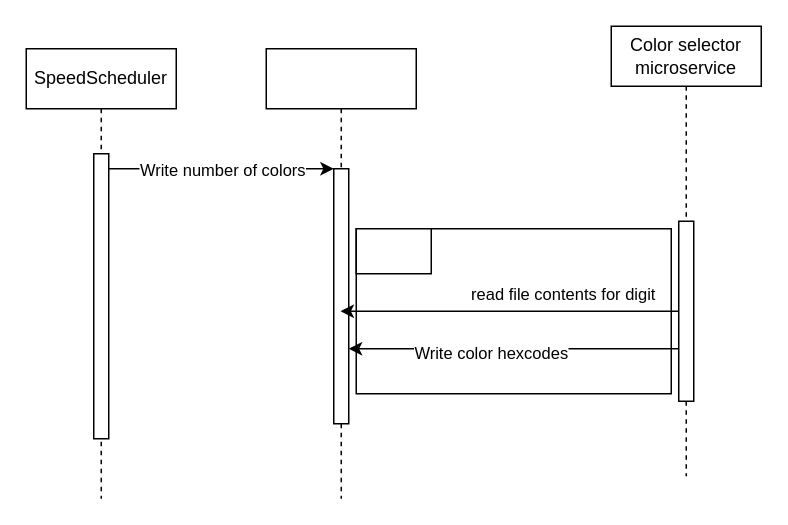
Some shapes in this 788 by 525 pixel diagram are drawn without their labels. The centre of each missing label's shape, as x and y in pixels:
"color-service-pipeline.txt" belongs at (340,273).
"Loop" belongs at (393,250).
